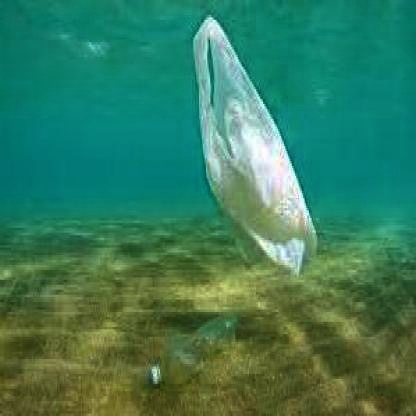pbag: (190, 15, 318, 277)
pbottle: (149, 314, 238, 392)
